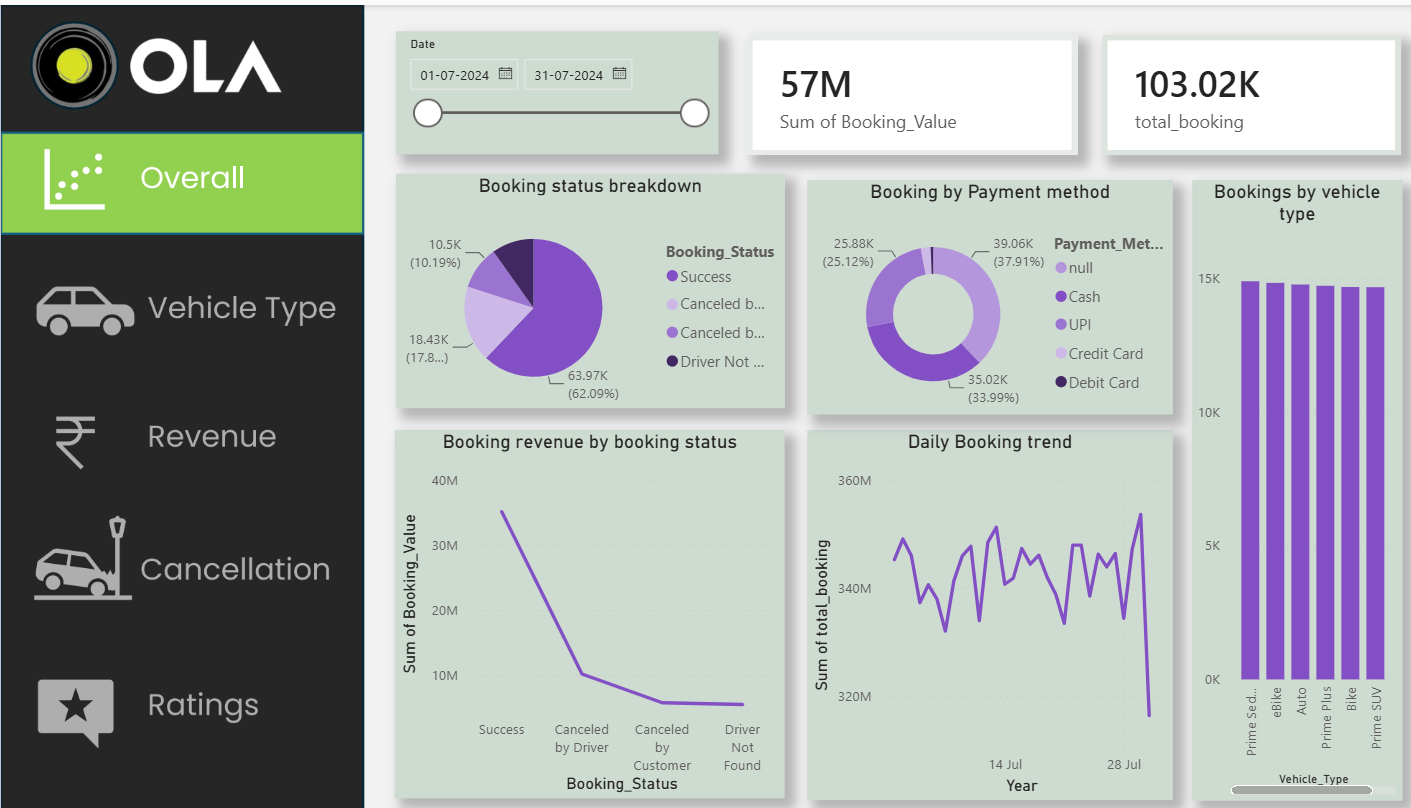

The dashboard page shown, as its layout file describes it:
{"tool":"powerbi","page":{"name":"Overall","canvas":[1280,720],"ordinal":0},"visuals":[{"type":"lineChart","title":"Booking revenue by booking status","fields":{"Category":["July.Booking_Status"],"Y":["Sum(July.Booking_Value)"]},"box":[351.1,378.8,347.5,328.2],"z":0},{"type":"cardVisual","fields":{"Data":["Sum(July.Booking_Value)"]},"box":[664.7,26.5,294.4,107.4],"z":1},{"type":"cardVisual","fields":{"Data":["Avg(July.total_booking)"]},"box":[980.8,26.5,266.6,107.4],"z":2},{"type":"slicer","fields":{"Values":["July.Date"]},"box":[352.3,22.9,287.1,109.8],"z":3},{"type":"pieChart","title":"Booking status breakdown","fields":{"Category":["July.Booking_Status"],"Y":["CountNonNull(July.Booking_Status)"]},"box":[352.3,150.8,346.2,208.7],"z":4},{"type":"actionButton","box":[0,202.9,325.7,115.7],"z":5},{"type":"actionButton","box":[0,458.8,325.7,115.7],"z":6},{"type":"actionButton","box":[0,574.3,325.7,115.7],"z":7},{"type":"actionButton","box":[0,318.6,325.7,117.1],"z":8},{"type":"lineChart","title":"Daily Booking trend","fields":{"Category":["July.Date.Variation.Date Hierarchy.Year","July.Date.Variation.Date Hierarchy.Quarter","July.Date.Variation.Date Hierarchy.Month","July.Date.Variation.Date Hierarchy.Day"],"Y":["Sum(July.total_booking)"]},"box":[717.8,378.8,325.7,329.4],"z":9},{"type":"columnChart","title":"Bookings by vehicle type","fields":{"Category":["July.Vehicle_Type"],"Y":["CountNonNull(July.Booking_ID)"]},"box":[1060.5,155.6,187,552.5],"z":10},{"type":"donutChart","title":"Booking by Payment method","fields":{"Category":["July.Payment_Method"],"Y":["CountNonNull(July.Booking_ID)"]},"box":[717.8,155.6,325.7,208.7],"z":11}]}

Visuals, with their boxes on the page's 1280x720 design canvas (x1, y1, x2, y2). These are canvas units, not pixel positions in the 1411x808 screenshot, which may show the page scaled, cropped or inside an application window:
"Booking revenue by booking status" lineChart: crop(351, 379, 699, 707)
cardVisual - Sum(July.Booking_Value): crop(665, 26, 959, 134)
cardVisual - Avg(July.total_booking): crop(981, 26, 1247, 134)
slicer - July.Date: crop(352, 23, 639, 133)
"Booking status breakdown" pieChart: crop(352, 151, 698, 360)
actionButton: crop(0, 203, 326, 319)
actionButton: crop(0, 459, 326, 574)
actionButton: crop(0, 574, 326, 690)
actionButton: crop(0, 319, 326, 436)
"Daily Booking trend" lineChart: crop(718, 379, 1044, 708)
"Bookings by vehicle type" columnChart: crop(1060, 156, 1248, 708)
"Booking by Payment method" donutChart: crop(718, 156, 1044, 364)
